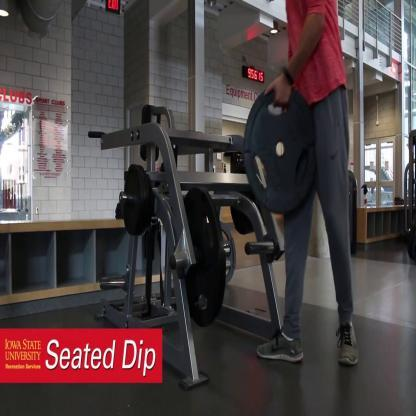seated dip machine: (89, 106, 282, 330)
